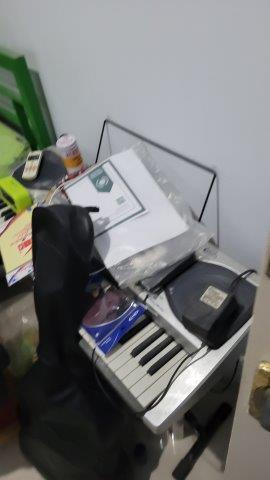kertas: (60, 145, 188, 270)
